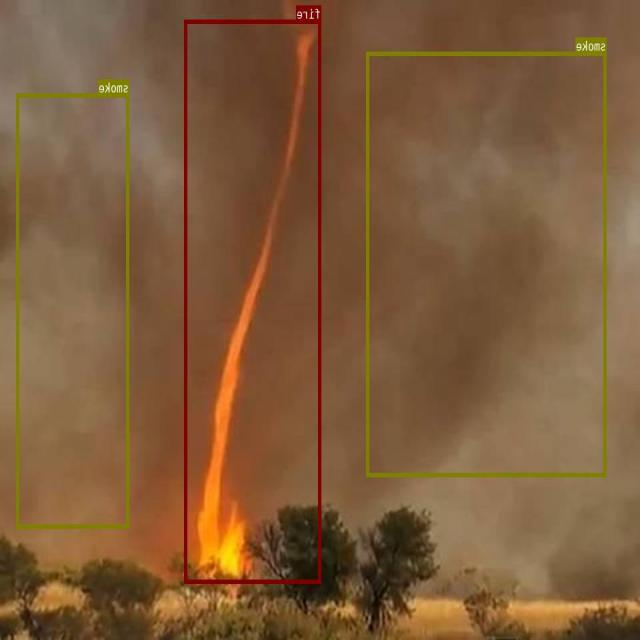fire: (185, 19, 322, 583)
smoke: (367, 51, 607, 476), (16, 93, 130, 527)
